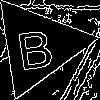B: (13, 20, 56, 71)
